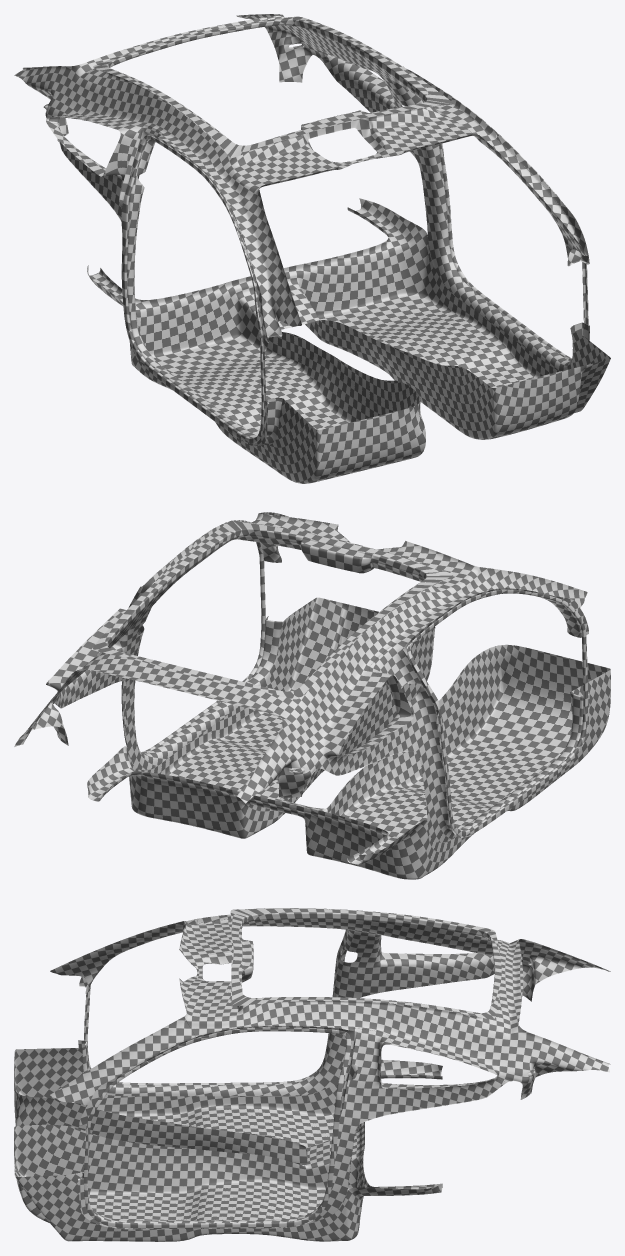
File: Interior_01.FBX
The picture shows the model from 3 angles, top to bottom: view 1: azimuth 30°, elevation 25°; view 2: azimuth 150°, elevation 25°; view 3: azimuth 270°, elevation 25°; orthographic projection. The views are drawn at different scales.
Parts seen in each view (by area): view 1: Interior_Body_Under_M, Interior_Ceiling_M_GT, Interior_Door_Rubber_M; view 2: Interior_Body_Under_M, Interior_Ceiling_M_GT, Interior_Door_Rubber_M; view 3: Interior_Ceiling_M_GT, Interior_Body_Under_M, Interior_Door_Rubber_M.
Boxes of the visible parts, x1=… form: Interior_Body_Under_M: x1=87, y1=198, x2=610, y2=483; Interior_Ceiling_M_GT: x1=14, y1=14, x2=589, y2=445; Interior_Door_Rubber_M: x1=121, y1=83, x2=588, y2=443; Interior_Body_Under_M: x1=87, y1=597, x2=610, y2=879; Interior_Ceiling_M_GT: x1=14, y1=512, x2=589, y2=842; Interior_Door_Rubber_M: x1=121, y1=524, x2=588, y2=836; Interior_Ceiling_M_GT: x1=50, y1=908, x2=610, y2=1229; Interior_Body_Under_M: x1=14, y1=1047, x2=442, y2=1241; Interior_Door_Rubber_M: x1=84, y1=914, x2=351, y2=1228.
Bounding box in the file's own units: 15.33 × 11.48 × 27.32.
